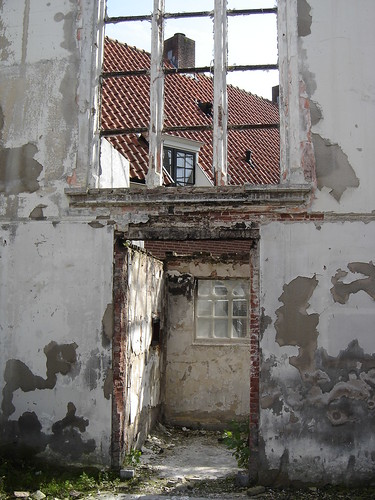building: (9, 1, 373, 492)
door: (112, 225, 267, 487)
window: (86, 1, 290, 198)
